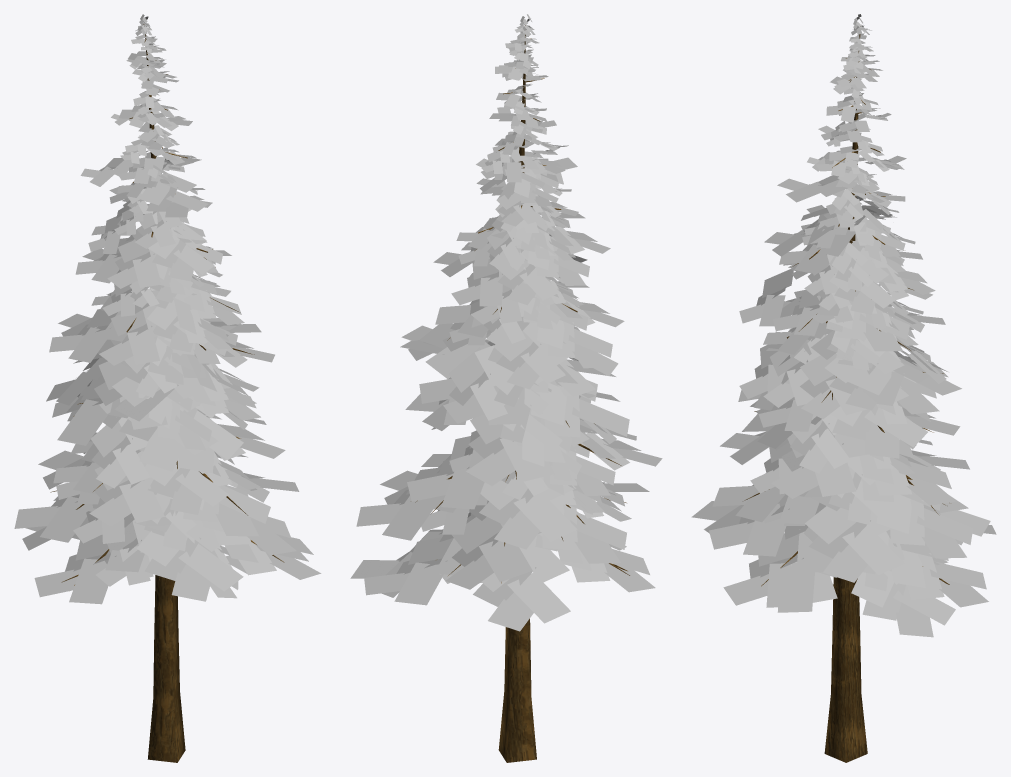
The model's file is pino_modelo.fbx.
The picture shows the model from 3 angles, left to right: view 1: azimuth 30°, elevation 25°; view 2: azimuth 150°, elevation 25°; view 3: azimuth 270°, elevation 25°; orthographic projection. The views are drawn at different scales.
Visible parts, largest first — view 1: tronco1, pino_hojas_low11, pino_hojas_low10, pino_hojas_low145, pino_hojas_low19, pino_hojas_low18, pino_hojas_low60, pino_hojas_low34, pino_hojas_low9, pino_hojas_low170, pino_hojas_low43, pino_hojas_low33 (+37 smaller); view 2: tronco1, pino_hojas_low8, pino_hojas_low16, pino_hojas_low15, pino_hojas_low7, pino_hojas_low63, pino_hojas_low25, pino_hojas_low9, pino_hojas_low14, pino_hojas_low33, pino_hojas_low61, pino_hojas_low32 (+36 smaller); view 3: tronco1, pino_hojas_low13, pino_hojas_low14, pino_hojas_low7, pino_hojas_low12, pino_hojas_low4, pino_hojas_low59, pino_hojas_low21, pino_hojas_low22, pino_hojas_low61, pino_hojas_low29, pino_hojas_low57 (+36 smaller).
Part boxes in pixels (x1=…): tronco1: x1=50, y1=24, x2=284, y2=762; pino_hojas_low11: x1=134, y1=510, x2=243, y2=601; pino_hojas_low10: x1=34, y1=534, x2=144, y2=604; pino_hojas_low145: x1=91, y1=414, x2=150, y2=488; pino_hojas_low19: x1=139, y1=447, x2=228, y2=514; pino_hojas_low18: x1=89, y1=442, x2=164, y2=525; pino_hojas_low60: x1=170, y1=467, x2=270, y2=536; pino_hojas_low34: x1=99, y1=288, x2=159, y2=365; pino_hojas_low9: x1=14, y1=494, x2=95, y2=542; pino_hojas_low170: x1=138, y1=383, x2=211, y2=450; pino_hojas_low43: x1=148, y1=222, x2=214, y2=281; pino_hojas_low33: x1=49, y1=309, x2=128, y2=362; tronco1: x1=415, y1=25, x2=629, y2=762; pino_hojas_low8: x1=473, y1=536, x2=570, y2=631; pino_hojas_low16: x1=479, y1=477, x2=577, y2=549; pino_hojas_low15: x1=445, y1=500, x2=541, y2=589; pino_hojas_low7: x1=364, y1=534, x2=463, y2=605; pino_hojas_low63: x1=466, y1=414, x2=554, y2=485; pino_hojas_low25: x1=530, y1=379, x2=629, y2=437; pino_hojas_low9: x1=540, y1=499, x2=626, y2=563; pino_hojas_low14: x1=356, y1=458, x2=455, y2=540; pino_hojas_low33: x1=523, y1=299, x2=612, y2=368; pino_hojas_low61: x1=407, y1=436, x2=484, y2=509; pino_hojas_low32: x1=493, y1=317, x2=565, y2=389; tronco1: x1=744, y1=26, x2=949, y2=762; pino_hojas_low13: x1=805, y1=495, x2=904, y2=582; pino_hojas_low14: x1=861, y1=478, x2=972, y2=558; pino_hojas_low7: x1=888, y1=537, x2=988, y2=607; pino_hojas_low12: x1=723, y1=524, x2=831, y2=607; pino_hojas_low4: x1=851, y1=565, x2=955, y2=637; pino_hojas_low59: x1=709, y1=494, x2=819, y2=556; pino_hojas_low21: x1=771, y1=427, x2=867, y2=498; pino_hojas_low22: x1=830, y1=404, x2=927, y2=458; pino_hojas_low61: x1=859, y1=439, x2=956, y2=505; pino_hojas_low29: x1=800, y1=330, x2=866, y2=419; pino_hojas_low57: x1=777, y1=561, x2=837, y2=612.
Size of the model in its own units: 798 by 2137 by 808.
